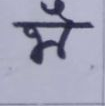au_matra: (44, 1, 76, 55)
